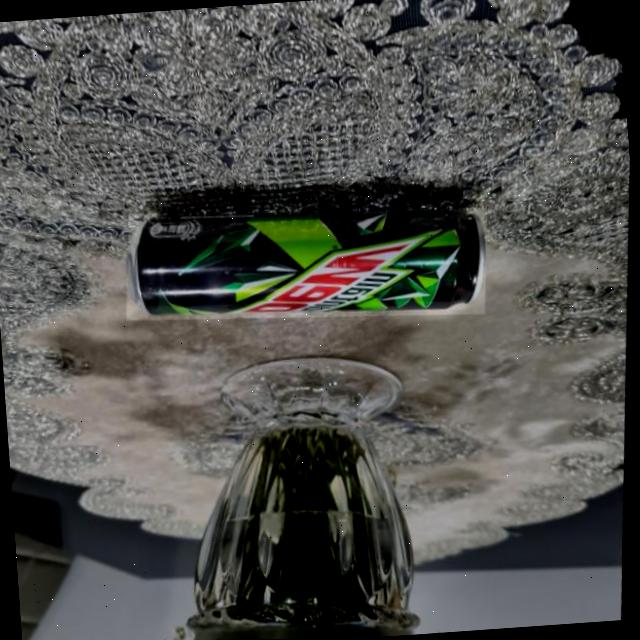trash: (125, 196, 491, 329)
